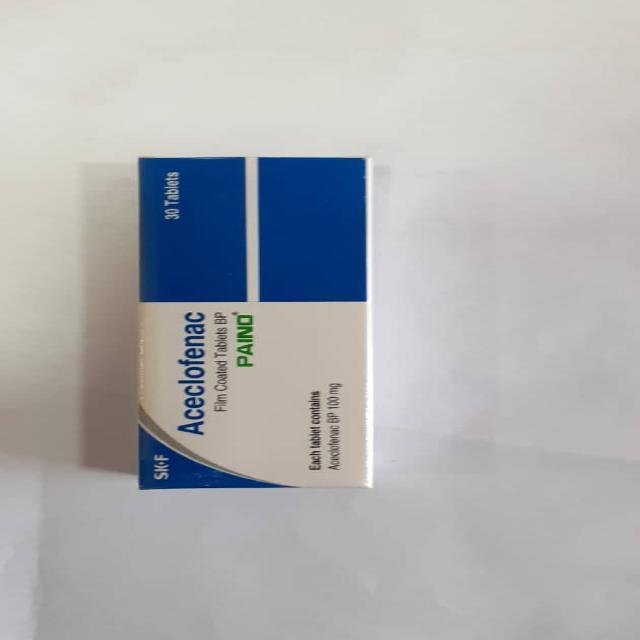drug-name: (232, 310, 258, 373)
